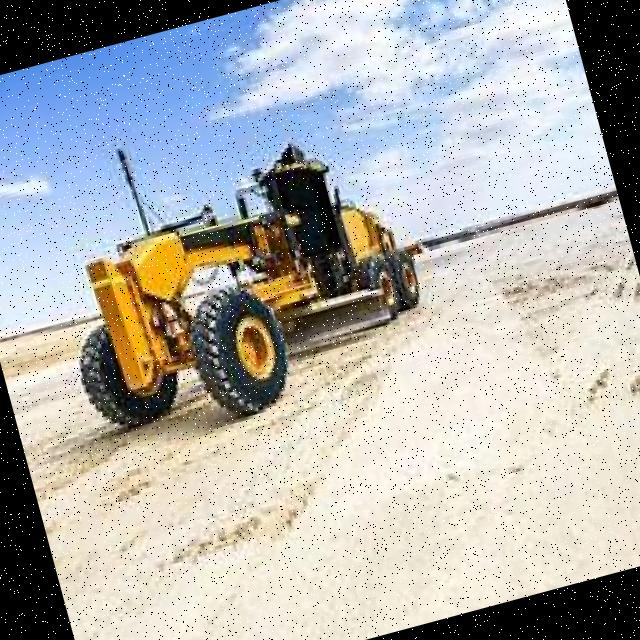Grader: (9, 111, 453, 468)
